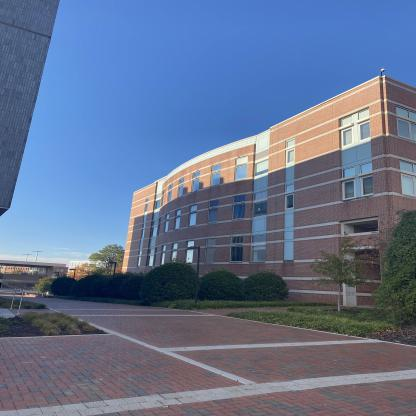EB-1: (117, 48, 416, 330)
